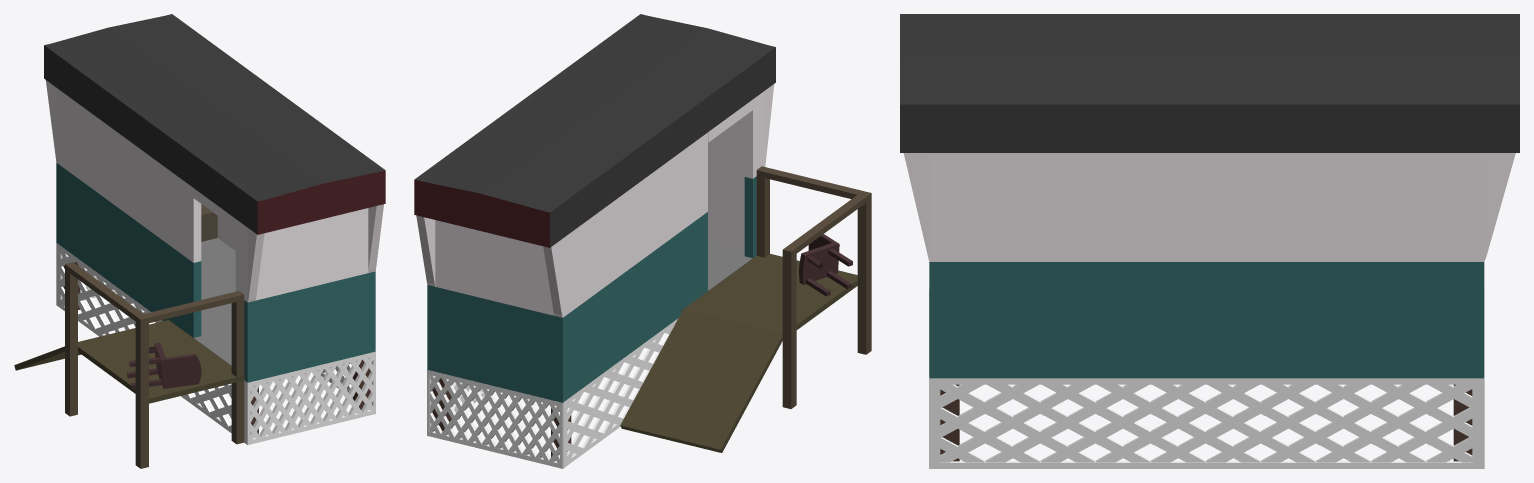
Rendered from trailer2wbottle.fbx.
3 renders of one model, left to right at view 1: azimuth 30°, elevation 25°; view 2: azimuth 150°, elevation 25°; view 3: azimuth 270°, elevation 25°, orthographic. The views are drawn at different scales.
Visible parts, largest first — view 1: Cube, Cube.002, Cube.009, Cube.006, Cube.005, Cube.003; view 2: Cube, Cube.006, Cube.002, Cube.009, Cube.005; view 3: Cube, Cube.002, Cube.001.
Boxes of the visible parts, left/top/right/bottom form: Cube: left=44, top=14, right=385, bottom=382; Cube.002: left=56, top=243, right=375, bottom=445; Cube.009: left=65, top=262, right=244, bottom=468; Cube.006: left=14, top=320, right=243, bottom=403; Cube.005: left=127, top=342, right=201, bottom=388; Cube.003: left=201, top=204, right=217, bottom=241; Cube: left=414, top=14, right=775, bottom=402; Cube.006: left=620, top=254, right=857, bottom=452; Cube.002: left=427, top=319, right=677, bottom=468; Cube.009: left=756, top=166, right=871, bottom=408; Cube.005: left=799, top=234, right=852, bottom=296; Cube: left=900, top=14, right=1519, bottom=378; Cube.002: left=929, top=288, right=1484, bottom=468; Cube.001: left=940, top=384, right=1472, bottom=461.
Size of the model in its own units: 930 by 978 by 1485.
